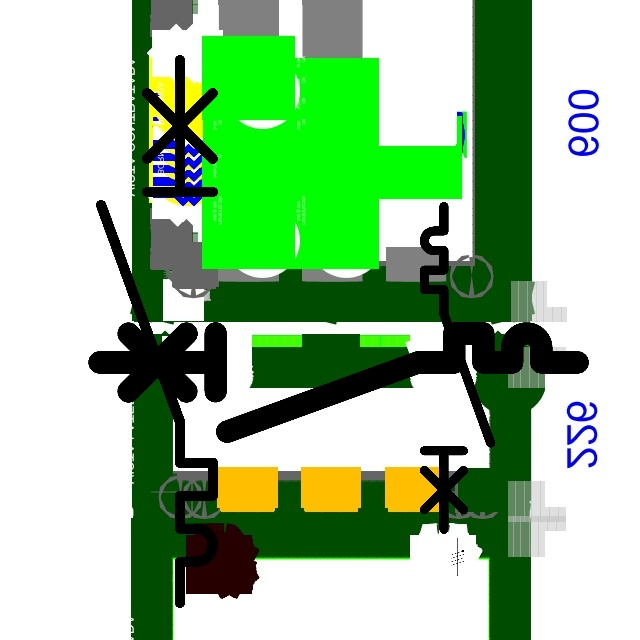interruptor_termomagnetico: (87, 46, 227, 617), (87, 321, 590, 444), (416, 198, 499, 537)
